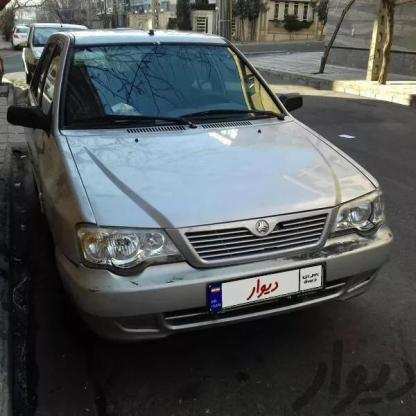Car: (0, 25, 407, 342), (2, 17, 122, 83), (0, 26, 38, 52)
